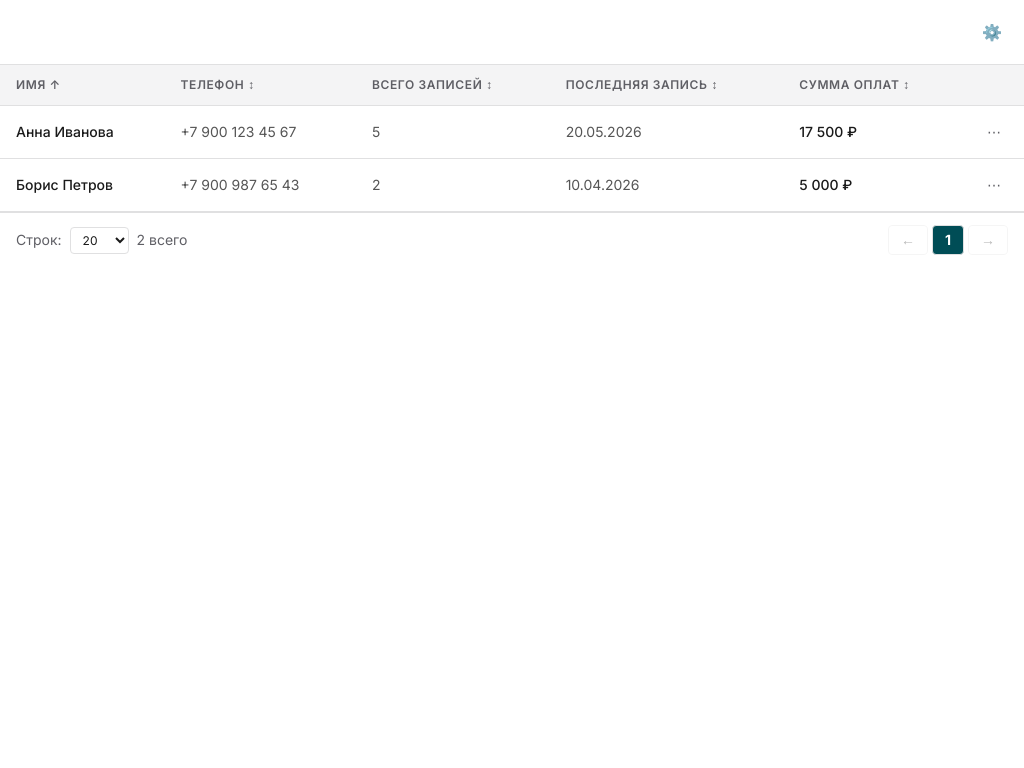
Scenario: ClientsTable › Mode A confirm enqueues the cascade deferred delete with the picked resolutions + tree
The image size is (1024, 768).
Click the button named "Действия" at (994, 132), box top-left (980, 118), bottom-right (1008, 146)
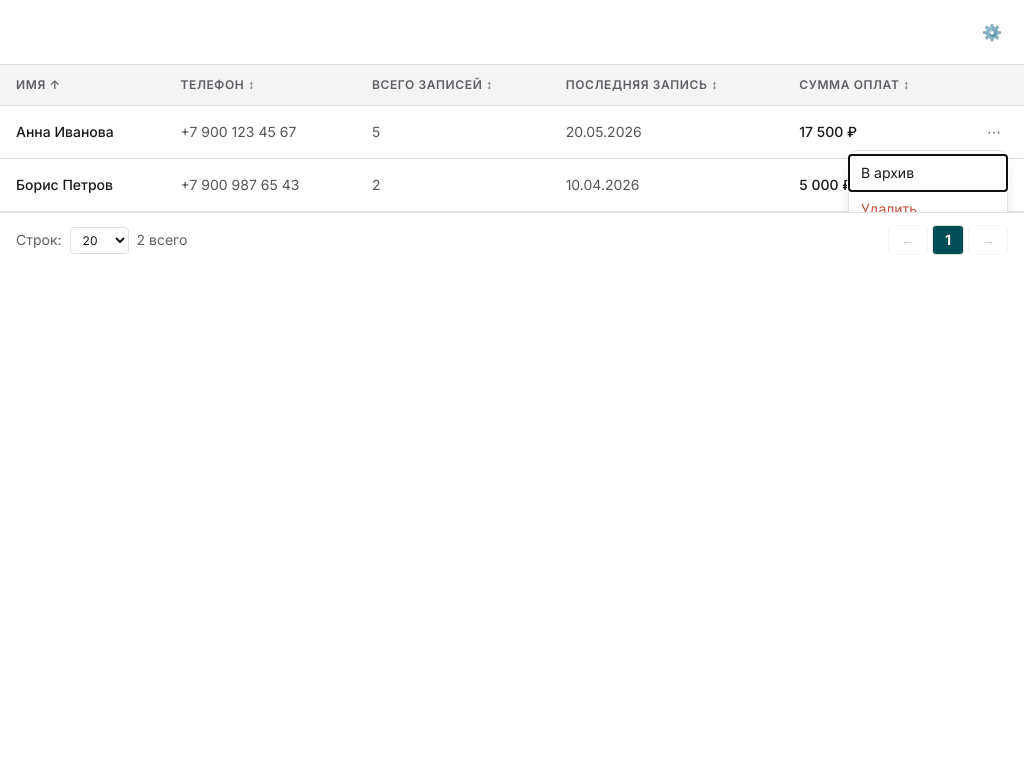
Click the menu item "Удалить" at (928, 209), box top-left (849, 191), bottom-right (1007, 227)
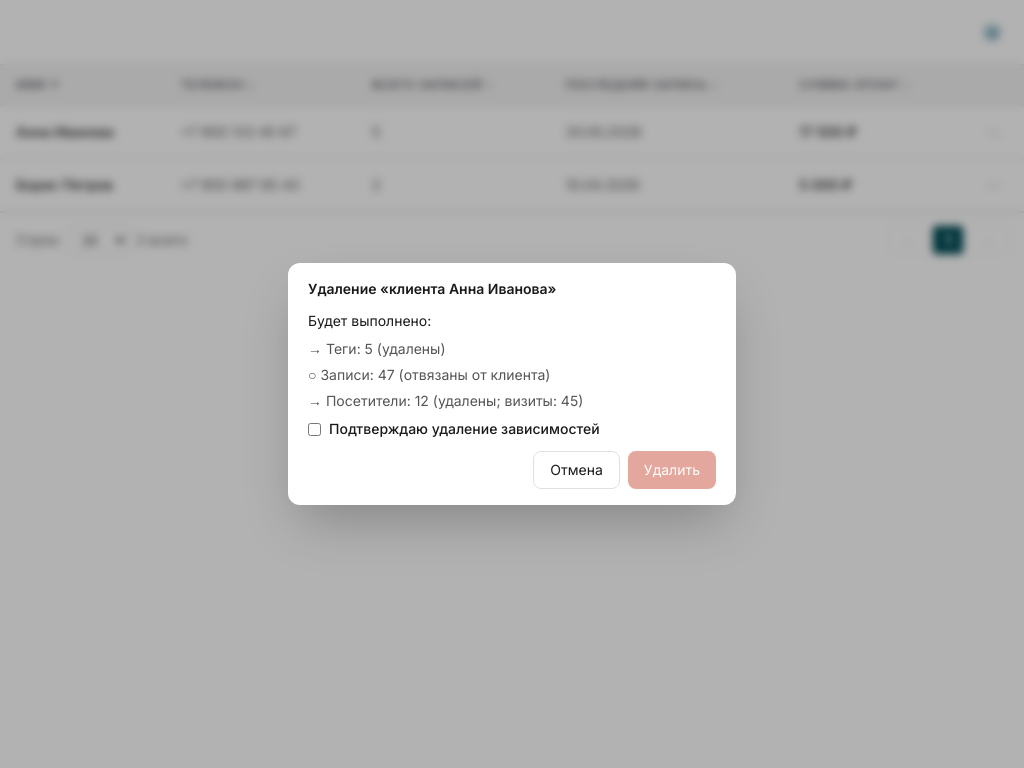
Now the element with test id "delete-dialog" is shown, box top-left (288, 263), bottom-right (736, 505)
# The confirm checkbox unlocks "Удалить" (resolutions cover both choice deps)
Click the checkbox with test id "delete-dialog-confirm-checkbox" at (314, 429), box top-left (308, 422), bottom-right (321, 436)
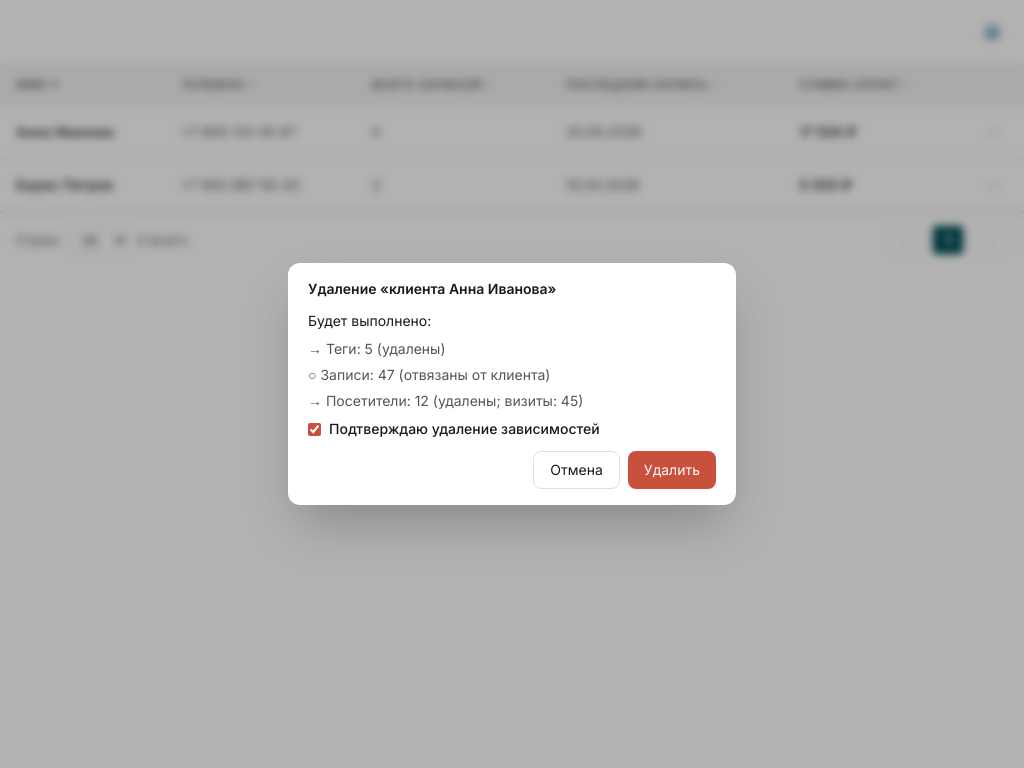
Click the button with test id "delete-dialog-confirm-btn" at (672, 470), box top-left (628, 451), bottom-right (716, 489)
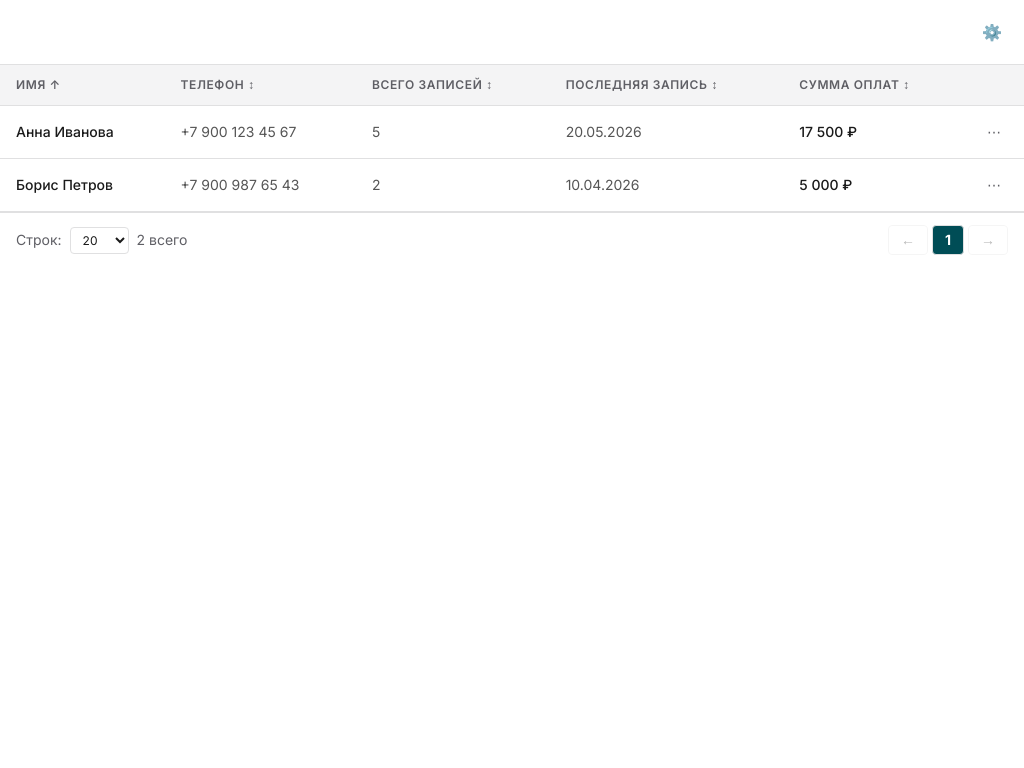
Now the element with test id "delete-dialog" is gone
